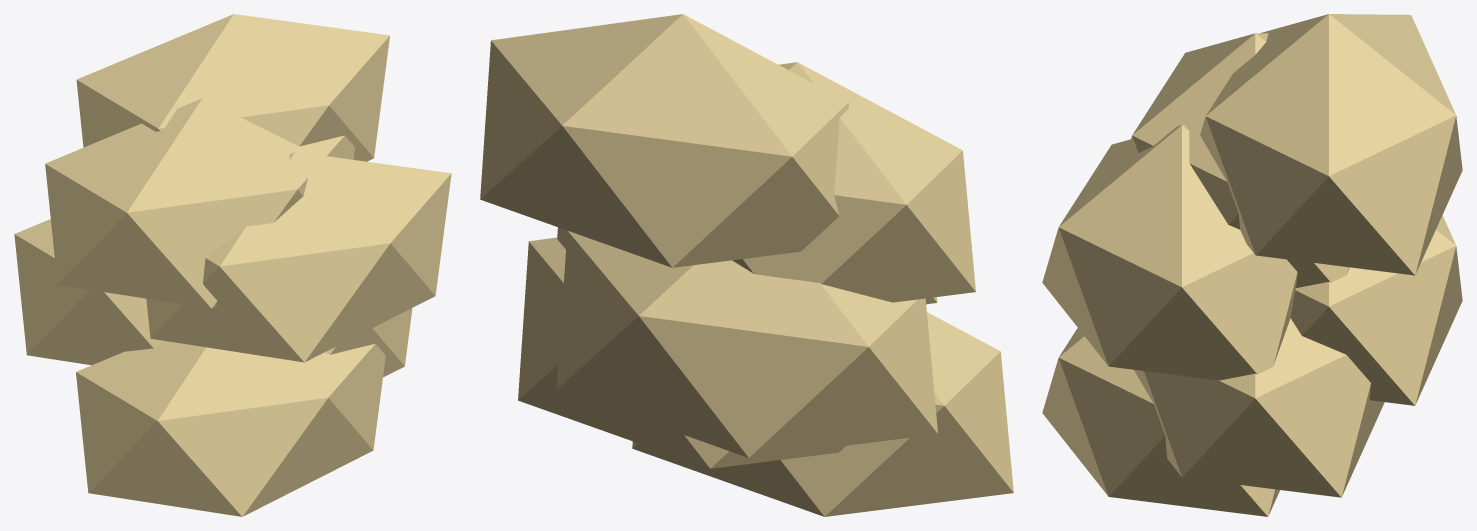
The model's file is item_031_emmer_seed_l.glb.
3 renders of one model, left to right at view 1: azimuth 30°, elevation 25°; view 2: azimuth 150°, elevation 25°; view 3: azimuth 270°, elevation 25°, orthographic. The views are drawn at different scales.
Visible parts, largest first — view 1: item_031_emmer_seed_l; view 2: item_031_emmer_seed_l; view 3: item_031_emmer_seed_l.
Part boxes in pixels (x1,y1,x2,y2): item_031_emmer_seed_l: (14,14,451,516); item_031_emmer_seed_l: (480,14,1013,516); item_031_emmer_seed_l: (1042,14,1462,516).
Size of the model in its own units: 0.4093 by 0.4554 by 0.343.
